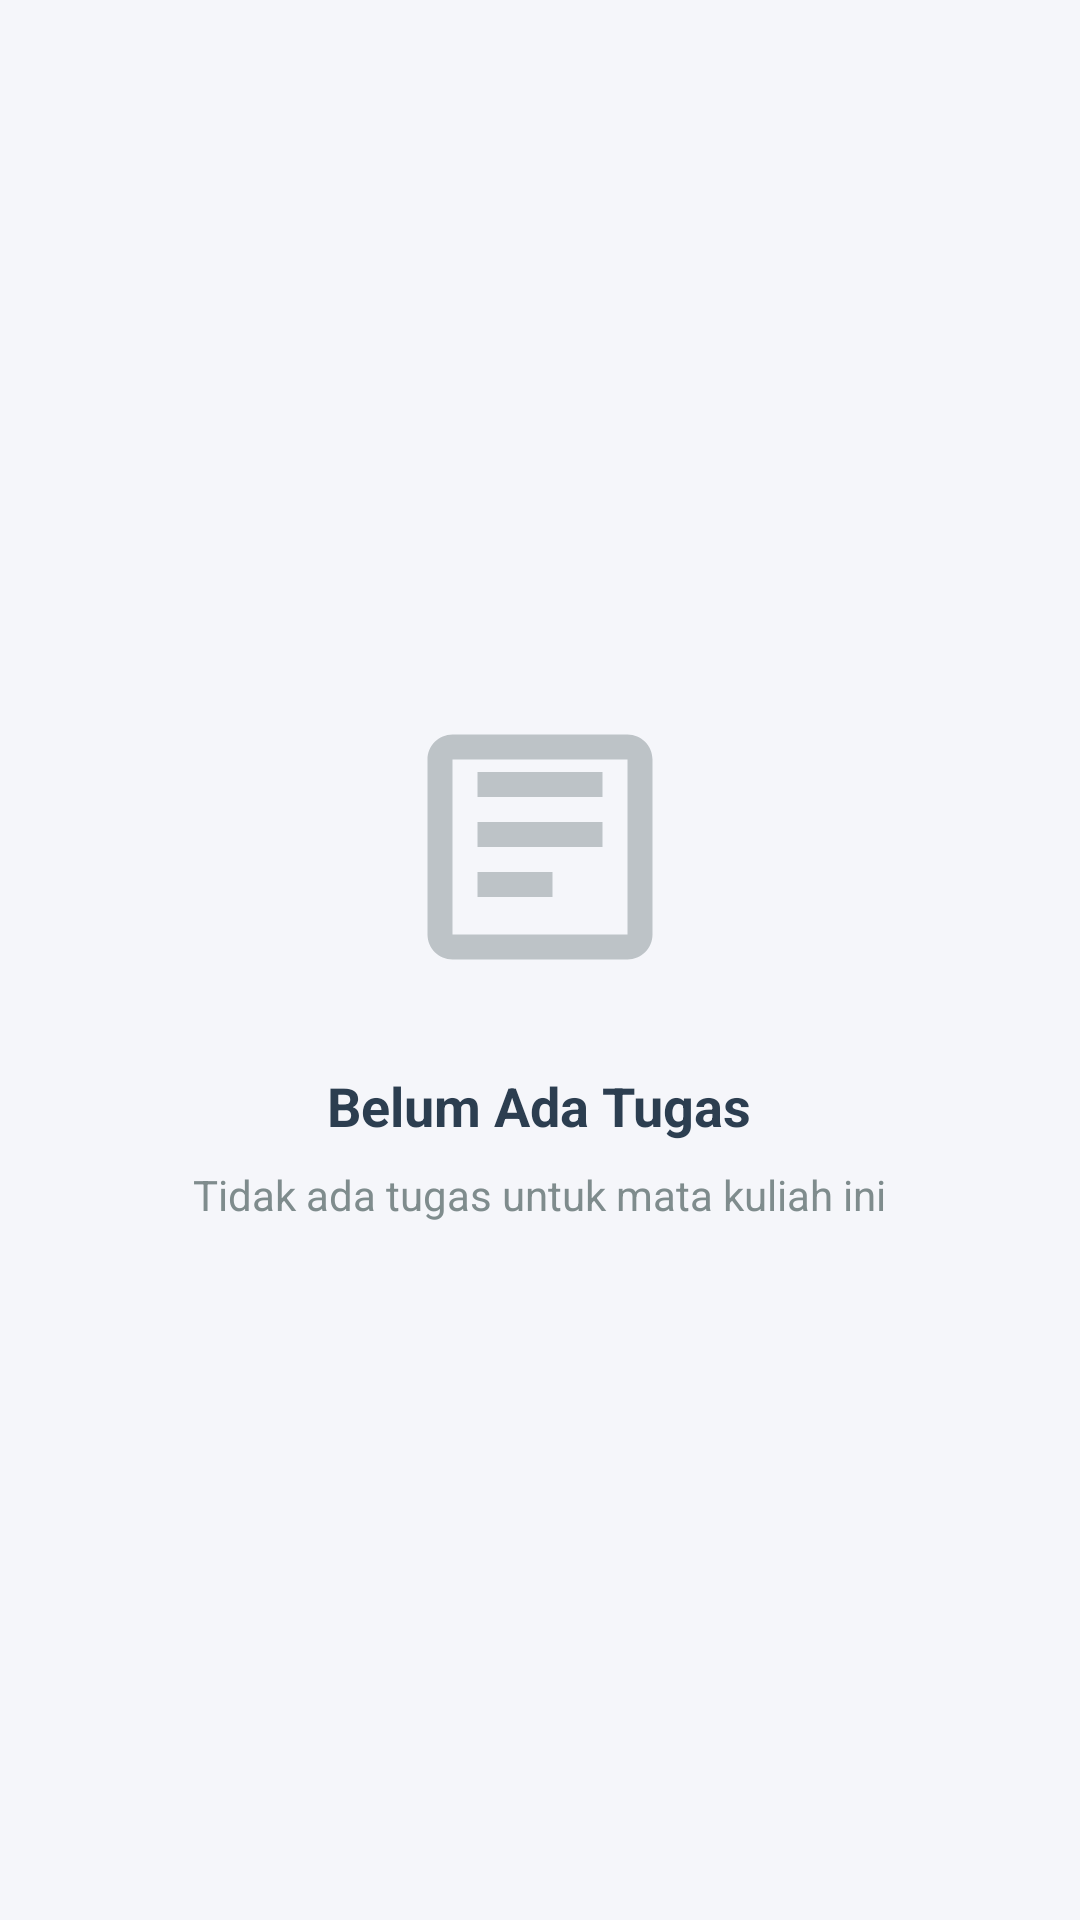

Icon bounding boxes for this 1080px×1920px phone screenshot, format (x1, y1, x2, y2):
assignment: (427, 734, 653, 960)
